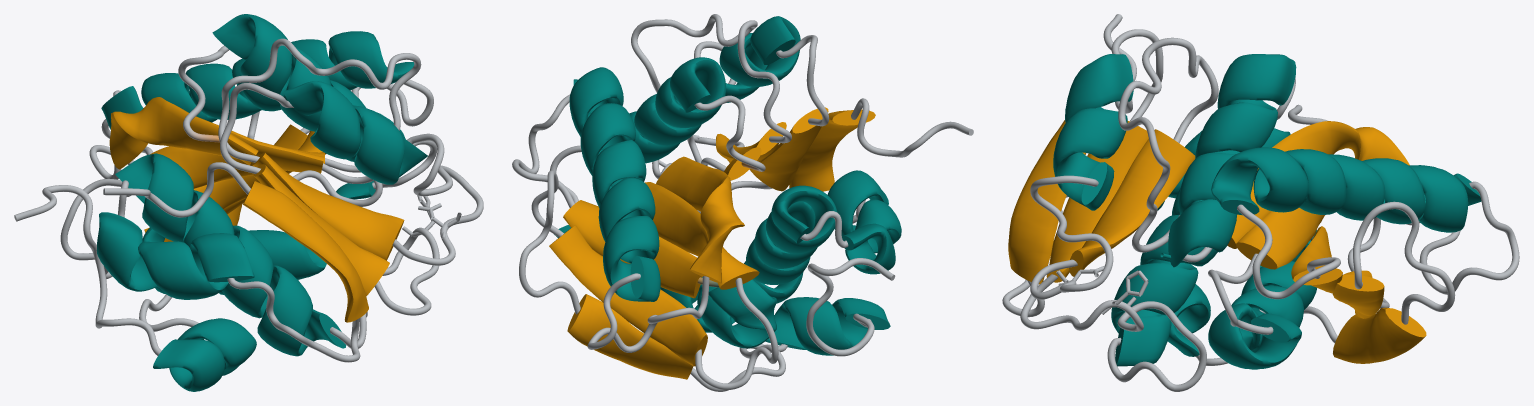
Rendered from petase.glb.
3 renders of one model, left to right at view 1: azimuth 30°, elevation 25°; view 2: azimuth 150°, elevation 25°; view 3: azimuth 270°, elevation 25°, orthographic. The views are drawn at different scales.
Parts seen in each view (by area): view 1: PETase_PETase; view 2: PETase_PETase; view 3: PETase_PETase.
Part boxes in pixels (<box>): PETase_PETase: <box>14,14,483,391</box>; PETase_PETase: <box>512,14,973,391</box>; PETase_PETase: <box>1002,14,1519,391</box>.
Bounding box in the file's own units: 0.4626 × 0.3588 × 0.4913.
